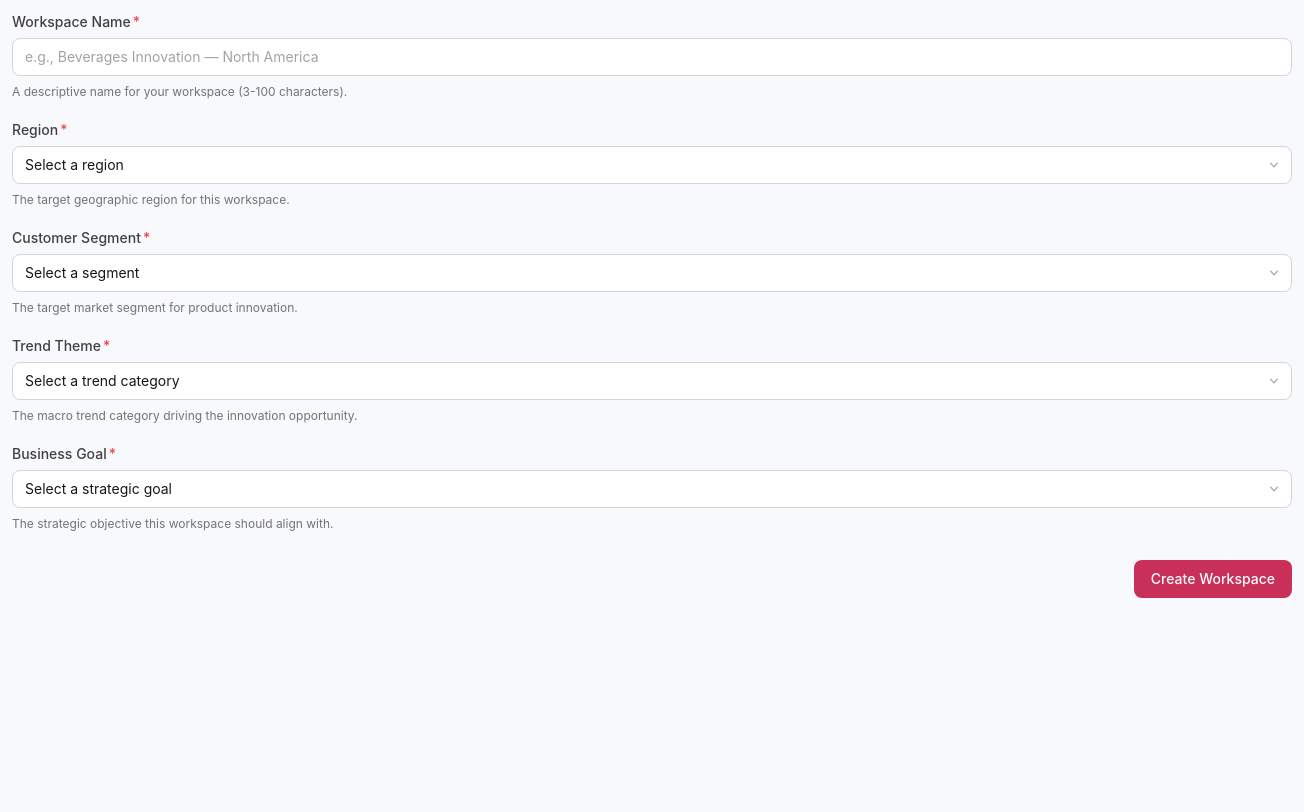
WorkspaceForm › field validation › shows error when segment is not selected on blur
Click the dropdown labelled "Customer Segment*".
click(652, 273)  # box [12, 254, 1292, 292]
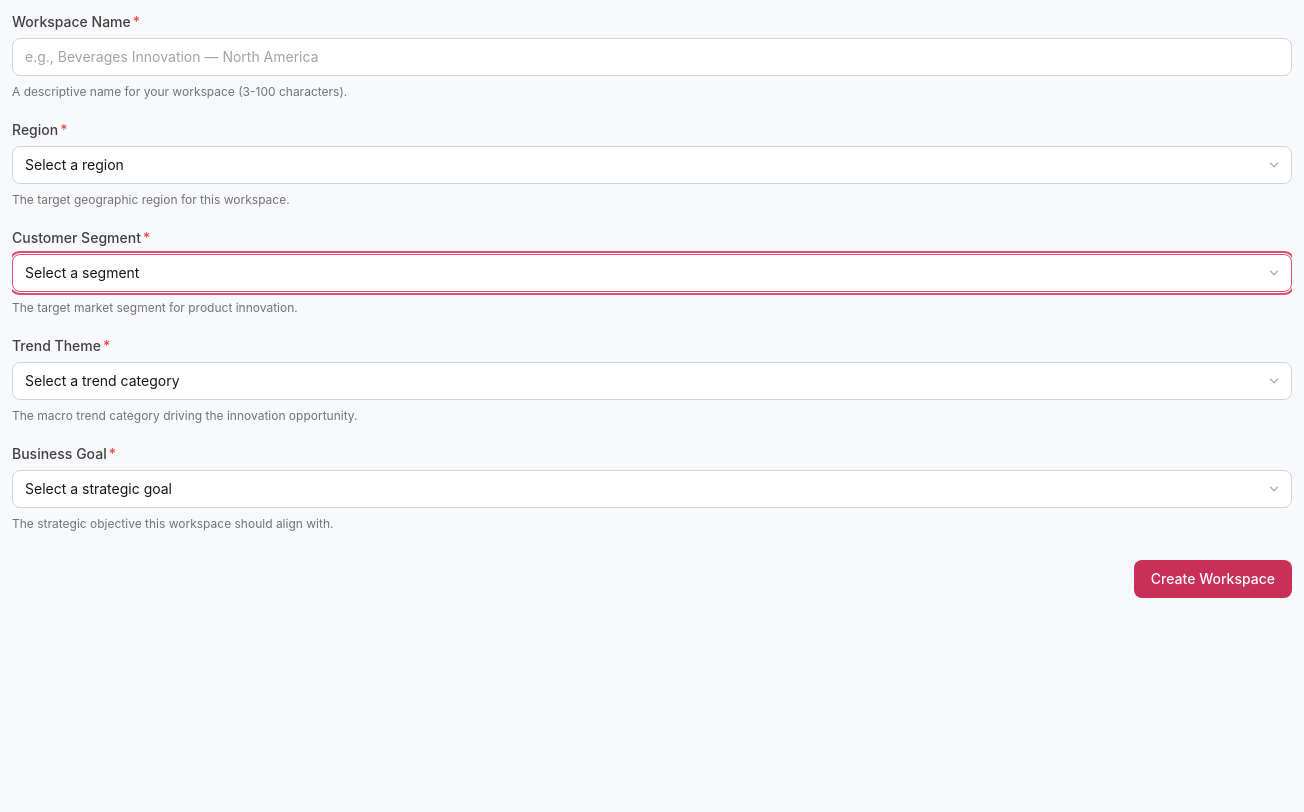
Press Tab
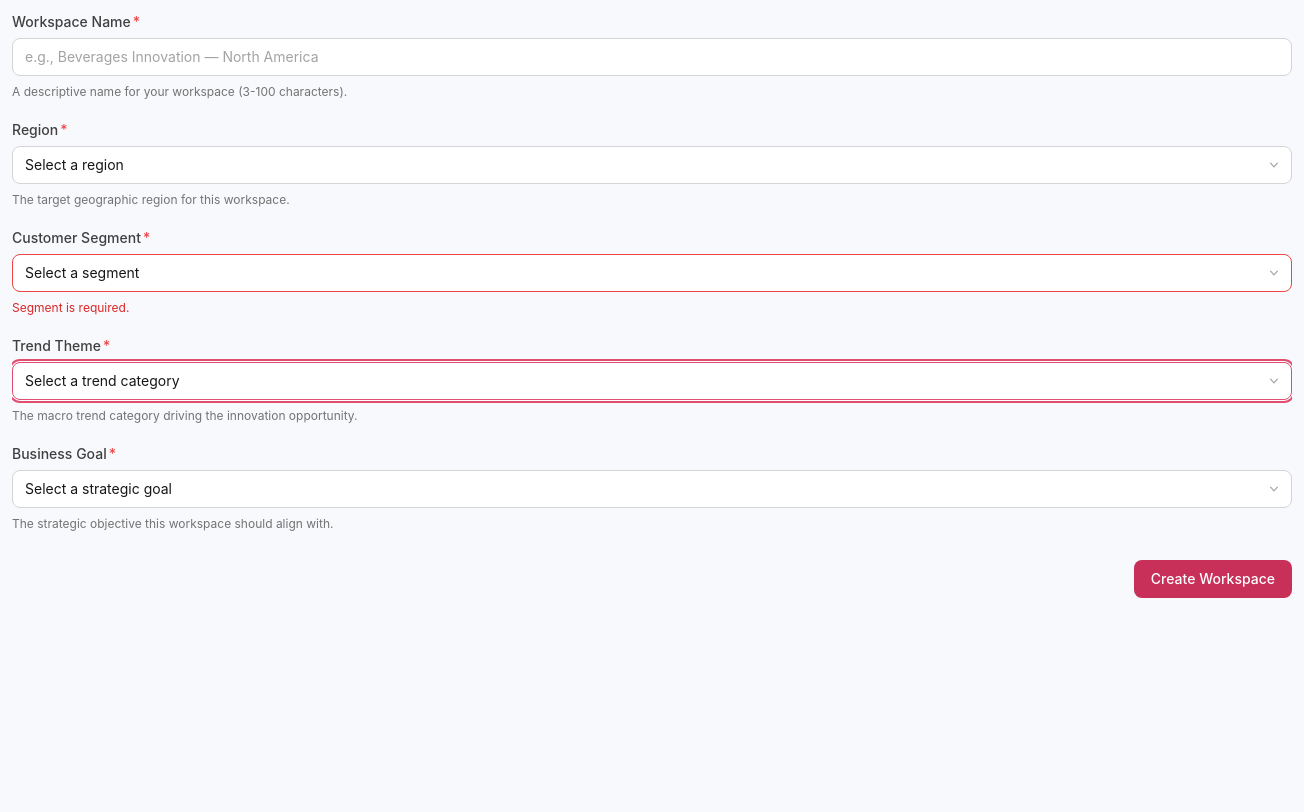
Expected: the text "Segment is required." is shown, [12, 300, 129, 315]
